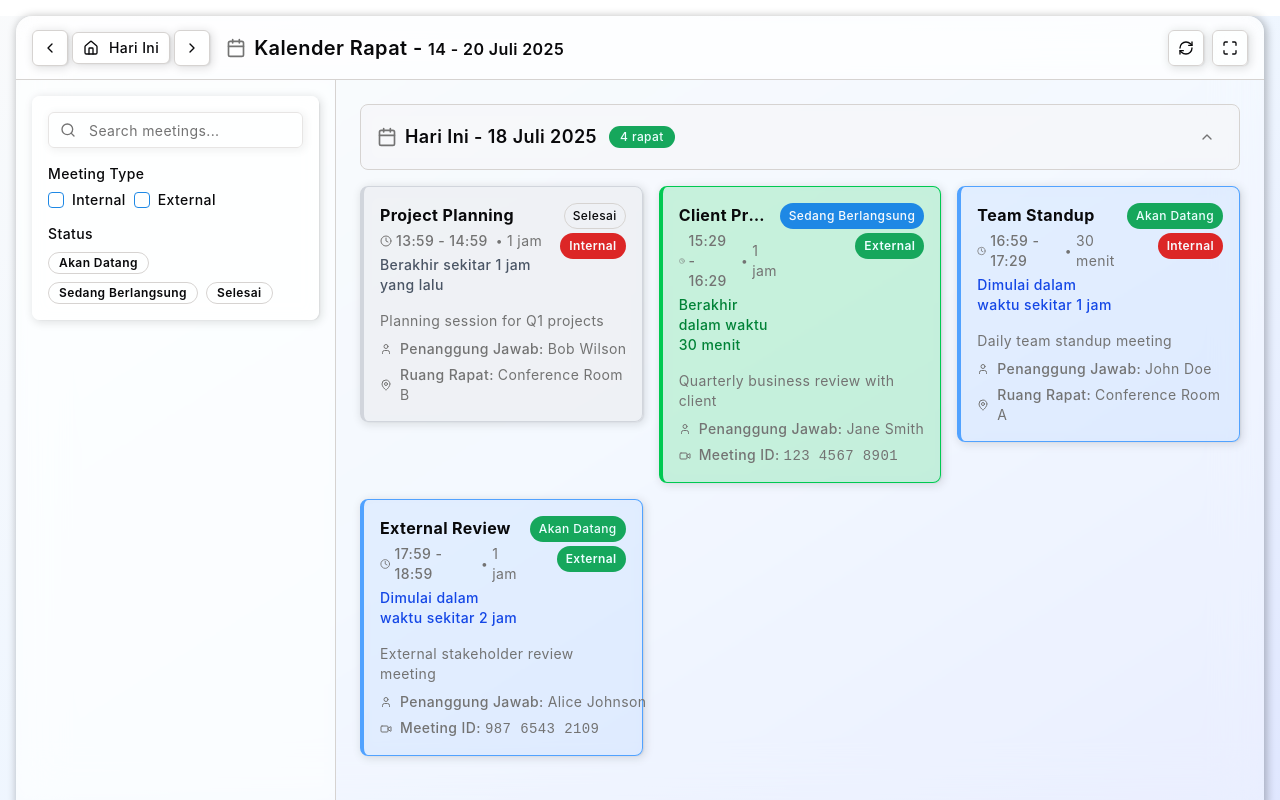
it: PublicCalendar Integration Tests › Search Functionality › should clear search when clear button is clicked
Expected: the heading "Team Standup" is shown, 977,205 -> 1095,225
Type "Team" into the field with placeholder "Search meetings..." at [176, 130], box 48,112 -> 303,148
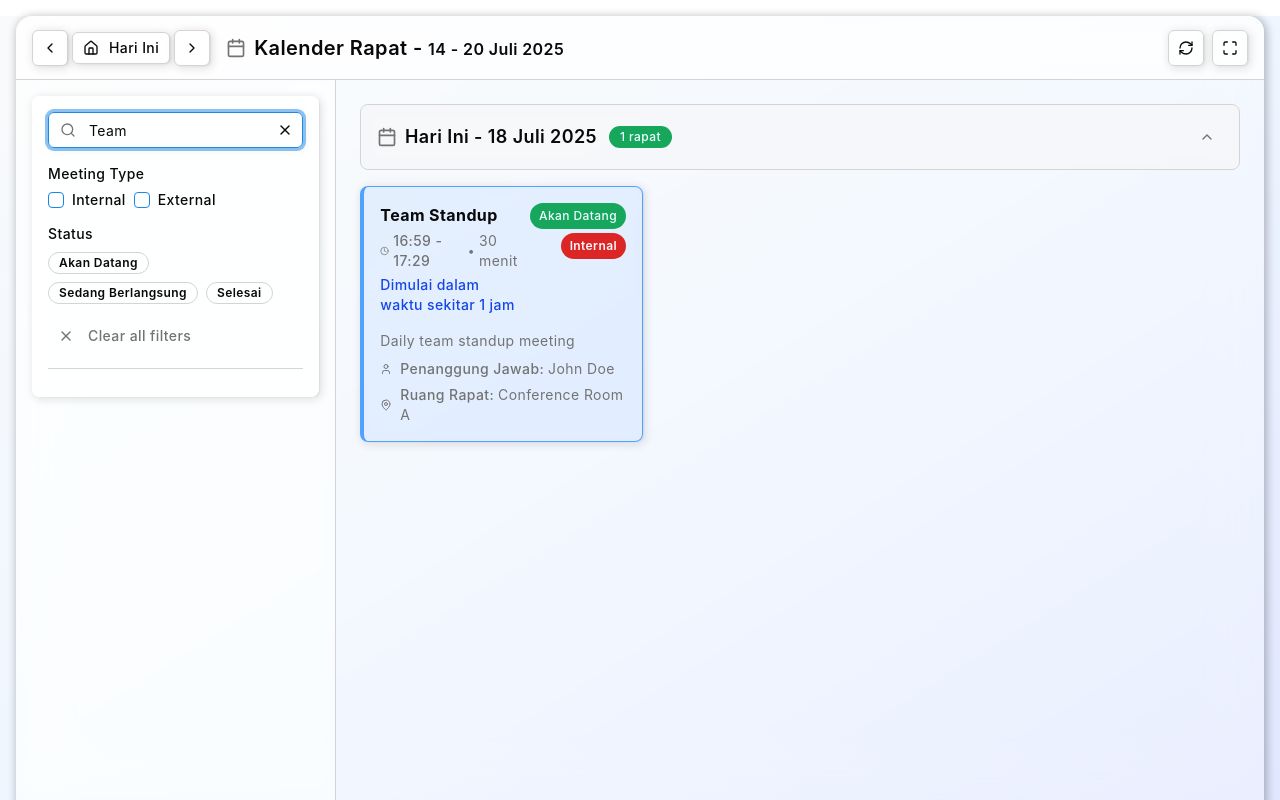
Result: the heading "Client Presentation" is gone
# Find and click clear filters button (use getAllByText to handle multiple buttons)
Click the button "Clear all filters" at [125, 336], box 48,320 -> 201,352
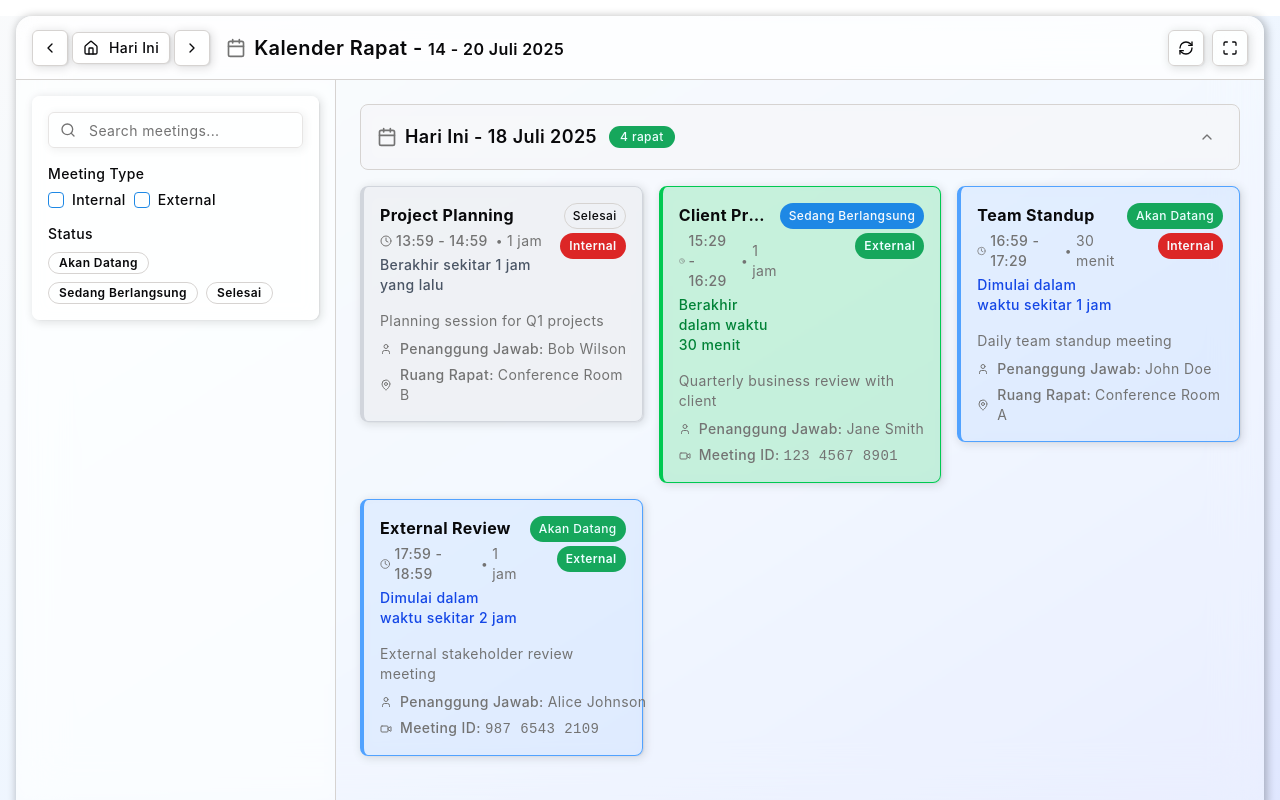
Expected: the heading "Team Standup" is shown, 977,205 -> 1095,225
Result: the heading "Client Presentation" is shown at 679,203 -> 772,227
